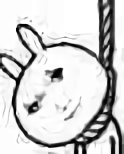dragon: (26, 68, 85, 124)
